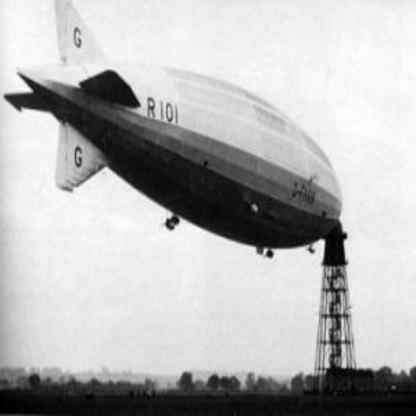Airship: (4, 1, 353, 258)
